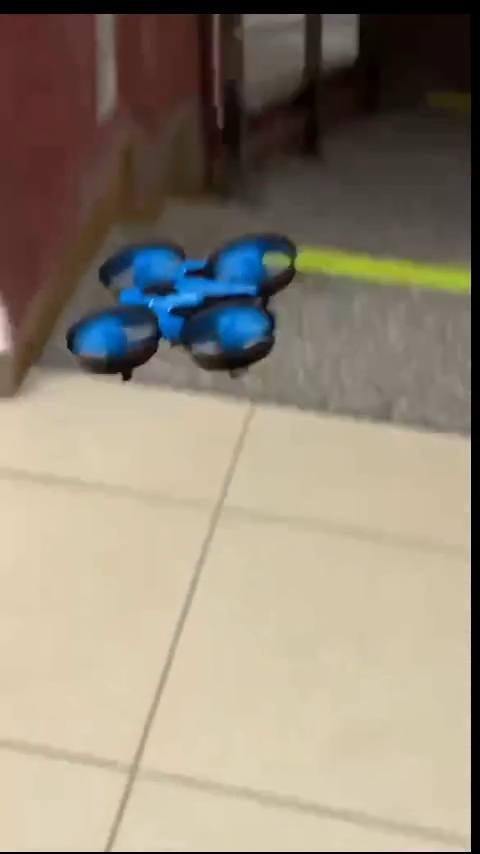drone: (81, 235, 319, 381)
